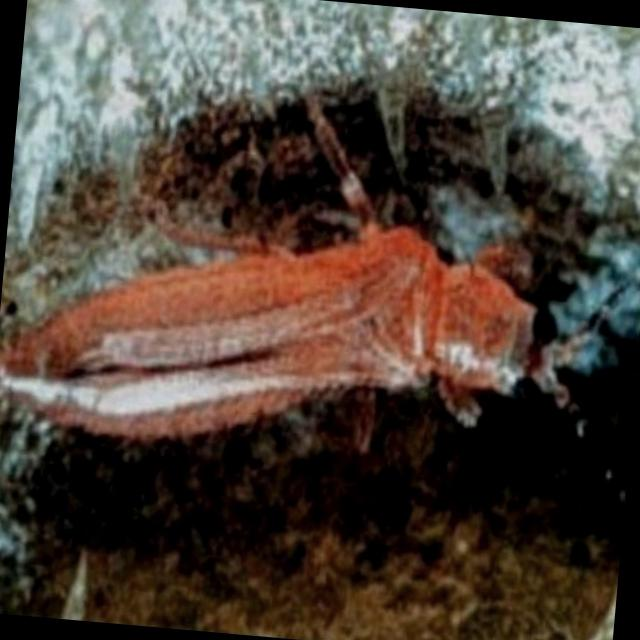melon thrips: (0, 97, 637, 595)
